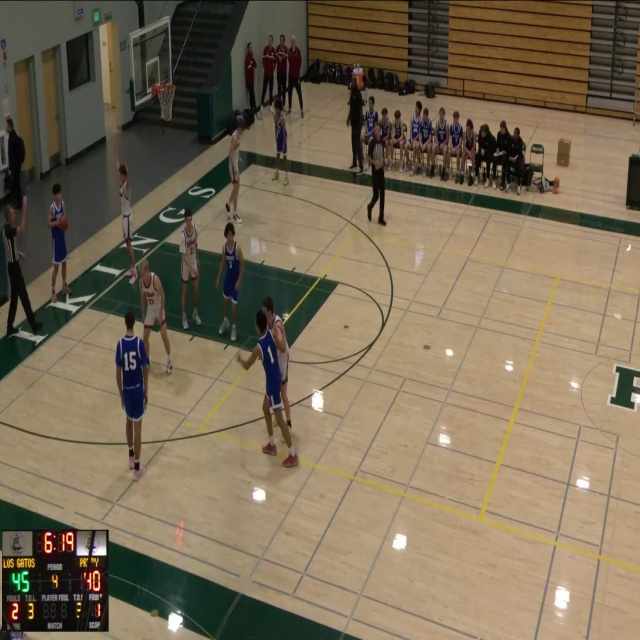Basketball: (57, 216, 68, 231)
